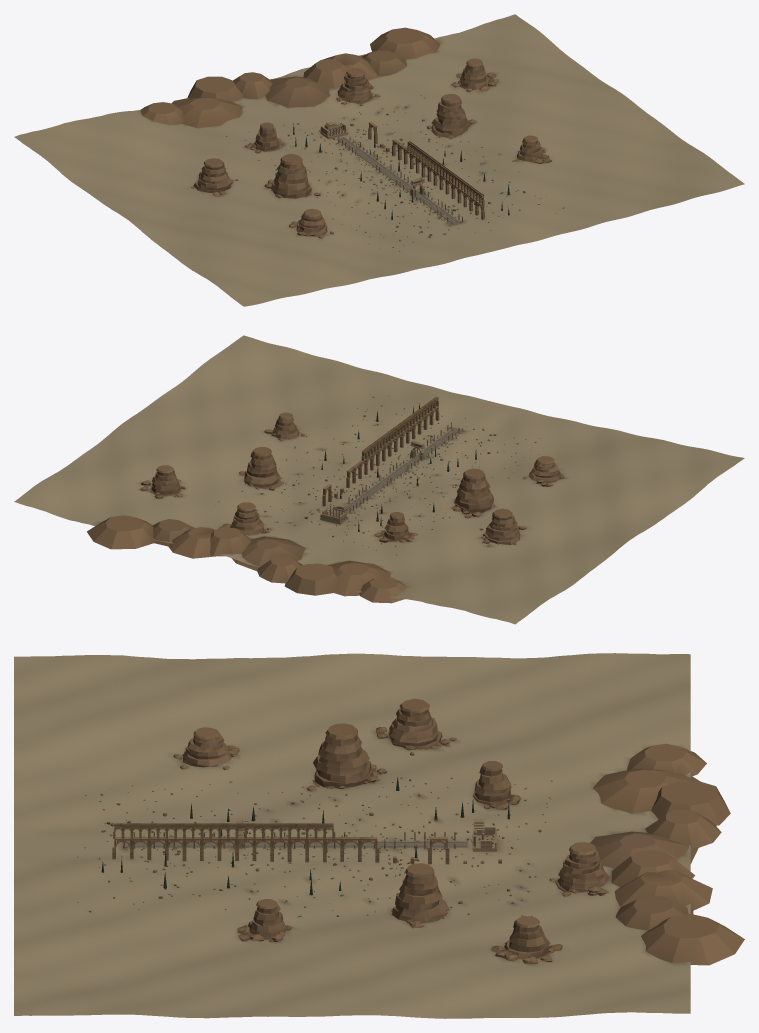
Rendered from desert-ruins.glb.
3 renders of one model, top to bottom at view 1: azimuth 30°, elevation 25°; view 2: azimuth 150°, elevation 25°; view 3: azimuth 270°, elevation 25°, orthographic. The views are drawn at different scales.
Parts seen in each view (by area): view 1: Ground, Mesas, Aqueduct, Causeway, Colonnade; view 2: Ground, Mesas, Aqueduct, Causeway, Colonnade; view 3: Ground, Mesas, Aqueduct, Causeway, Scrub, Temple, Colonnade, Cypress.
Part boxes in pixels (bbox=[...]): Ground: bbox=[14, 14, 744, 306]; Mesas: bbox=[140, 27, 551, 238]; Aqueduct: bbox=[350, 121, 484, 219]; Causeway: bbox=[337, 137, 460, 224]; Colonnade: bbox=[338, 136, 463, 225]; Ground: bbox=[14, 335, 744, 624]; Mesas: bbox=[87, 412, 564, 603]; Aqueduct: bbox=[304, 396, 439, 518]; Causeway: bbox=[338, 428, 460, 514]; Colonnade: bbox=[343, 422, 465, 513]; Ground: bbox=[14, 653, 690, 1018]; Mesas: bbox=[173, 698, 744, 965]; Aqueduct: bbox=[112, 823, 501, 865]; Causeway: bbox=[121, 841, 467, 847]; Scrub: bbox=[77, 777, 552, 918]; Temple: bbox=[471, 818, 496, 851]; Colonnade: bbox=[123, 831, 455, 850]; Cypress: bbox=[101, 777, 509, 895].
Size of the model in its own units: 680 by 49.3 by 583.
